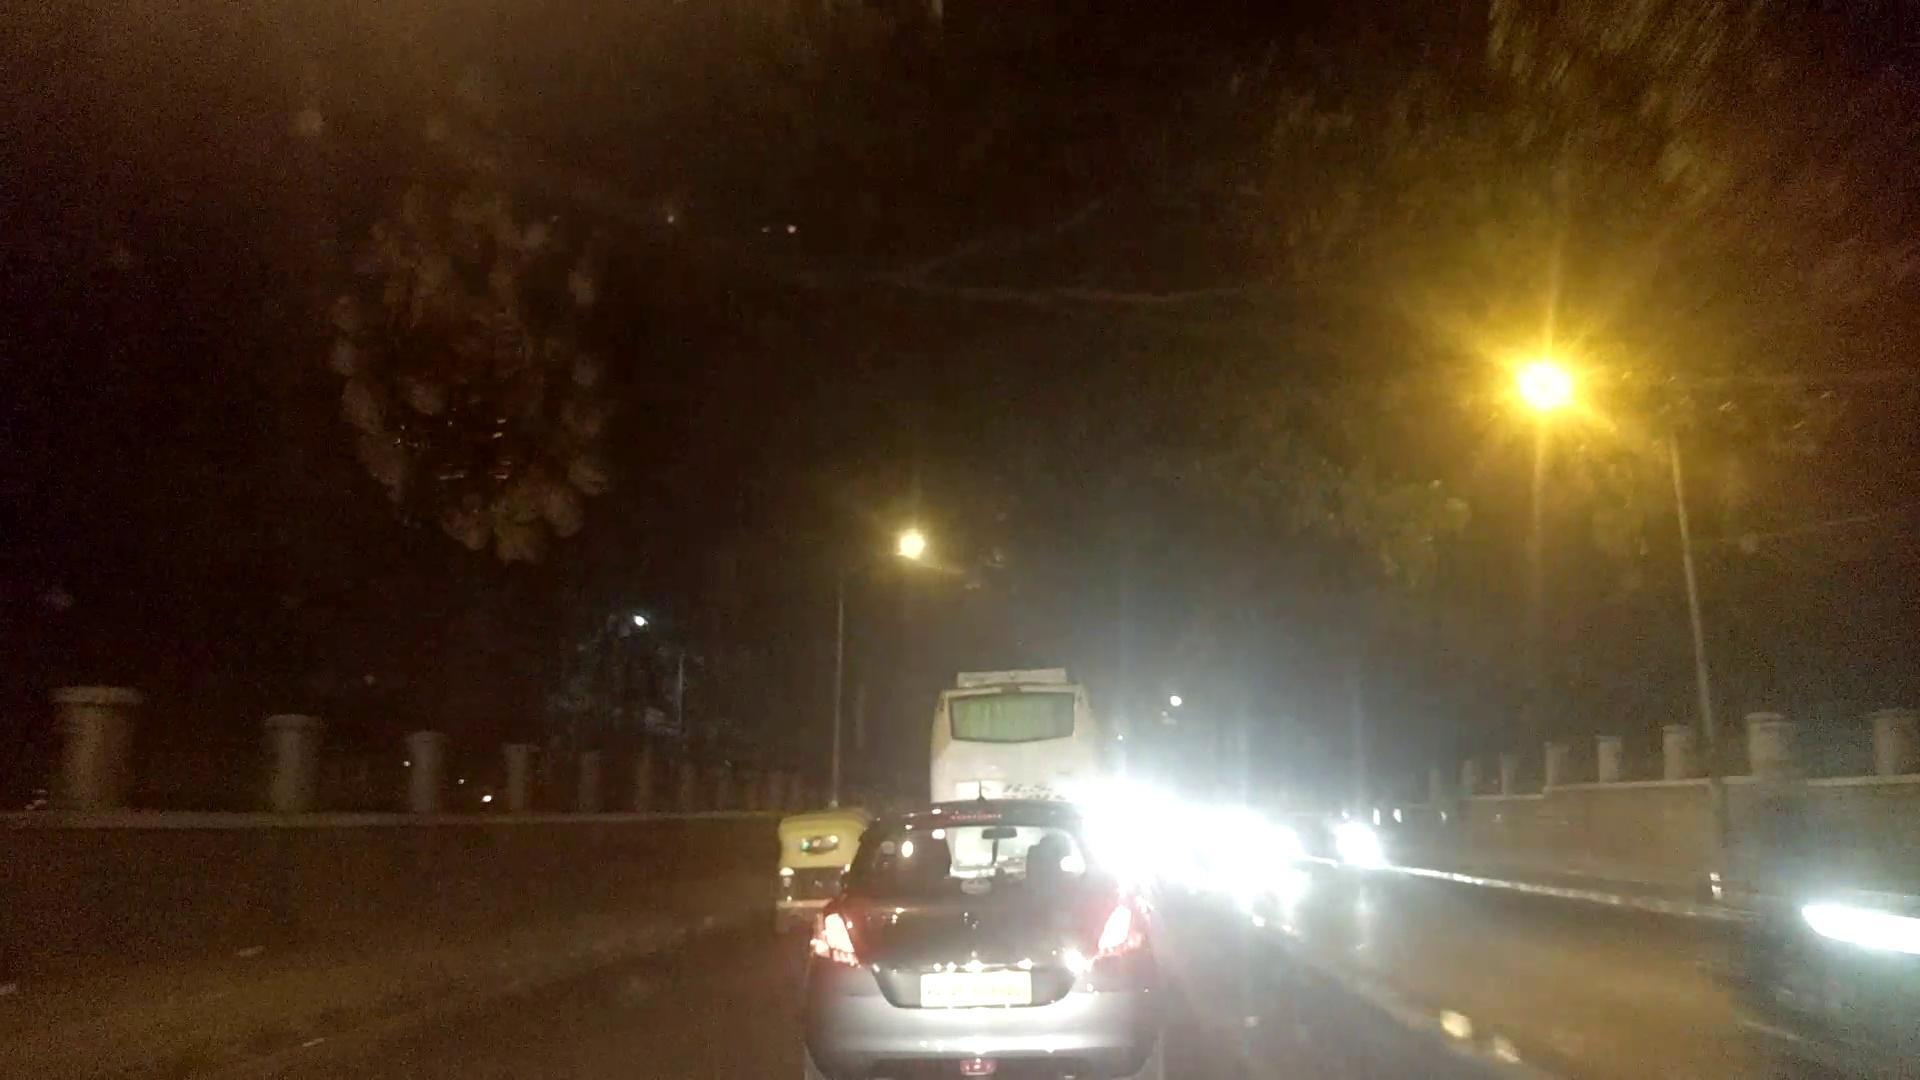on: (1379, 222, 1767, 611)
